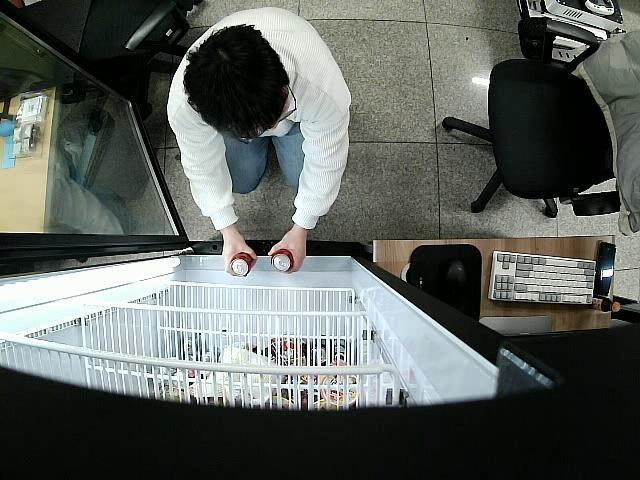11_cocaColaZero: (272, 246, 295, 273), (230, 251, 254, 276)
